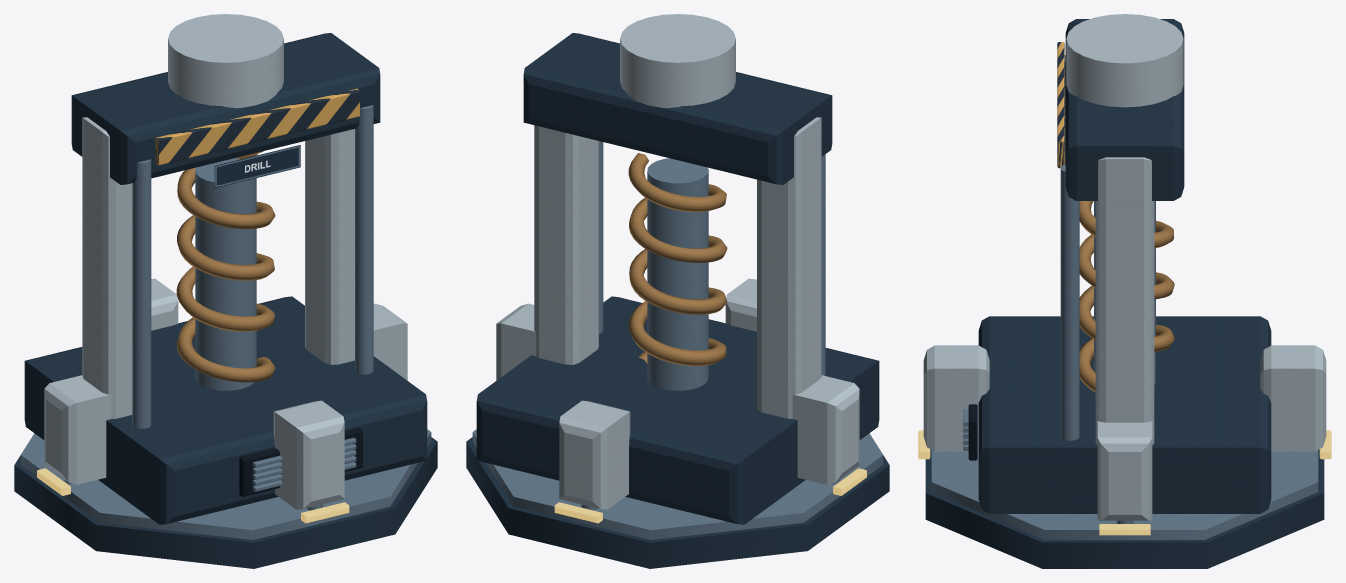
Rendered from drill.glb.
The picture shows the model from 3 angles, left to right: view 1: azimuth 30°, elevation 25°; view 2: azimuth 150°, elevation 25°; view 3: azimuth 270°, elevation 25°; orthographic projection.
Visible parts, largest first — view 1: Graphite composite, Ceramic titanium armor, Brushed titanium (×2), Copper heat exchanger, Safety stripe, Identification DRILL, Carbon machinery, Status light; view 2: Graphite composite, Ceramic titanium armor, Brushed titanium (×2), Copper heat exchanger, Status light; view 3: Graphite composite, Ceramic titanium armor, Brushed titanium, Copper heat exchanger, Status light, Safety stripe, Carbon machinery.
Part boxes in pixels (<box>): Graphite composite: <box>14,33,437,568</box>; Ceramic titanium armor: <box>44,14,407,509</box>; Brushed titanium (×2): <box>20,105,431,539</box>; Copper heat exchanger: <box>176,151,275,382</box>; Safety stripe: <box>155,88,359,165</box>; Identification DRILL: <box>214,145,300,187</box>; Carbon machinery: <box>239,428,362,496</box>; Status light: <box>37,468,349,523</box>; Graphite composite: <box>466,33,889,568</box>; Ceramic titanium armor: <box>496,14,859,509</box>; Brushed titanium (×2): <box>472,141,883,539</box>; Copper heat exchanger: <box>628,153,727,369</box>; Status light: <box>554,468,866,523</box>; Graphite composite: <box>925,19,1324,568</box>; Ceramic titanium armor: <box>923,14,1326,520</box>; Brushed titanium: <box>931,55,1318,539</box>; Copper heat exchanger: <box>1079,201,1174,392</box>; Status light: <box>918,430,1331,535</box>; Safety stripe: <box>1057,42,1064,168</box>; Carbon machinery: <box>968,404,977,460</box>.
Size of the model in its own units: 2.26 by 2.69 by 2.26.
8 materials, 7 textured.
